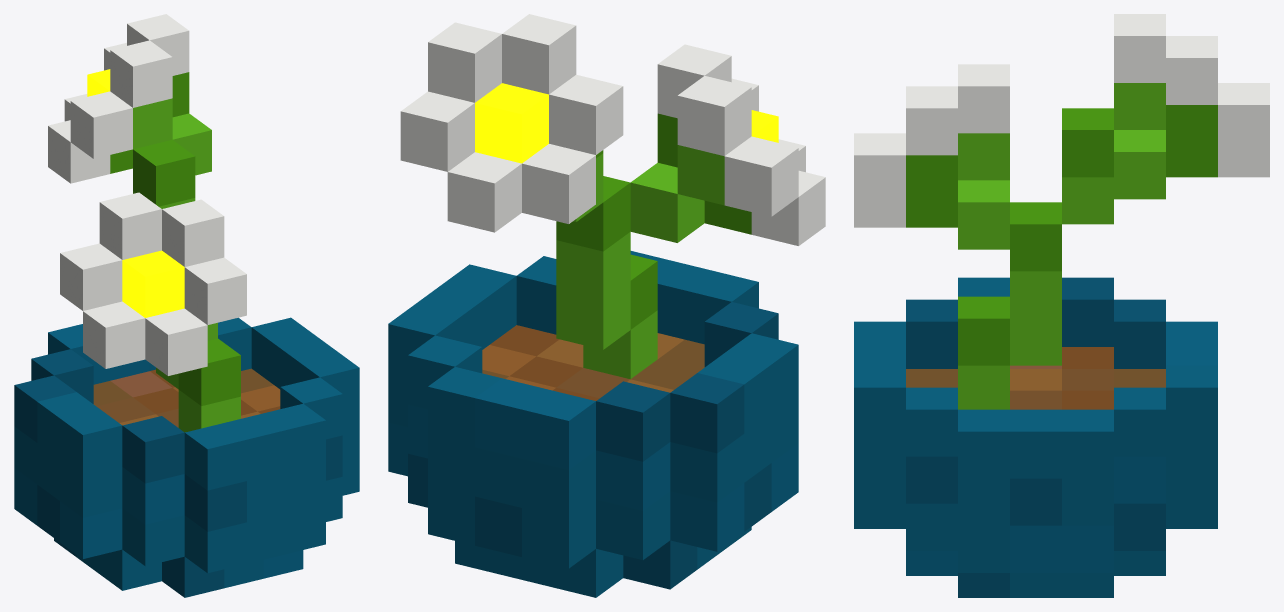
Rendered from flower.glb.
3 renders of one model, left to right at view 1: azimuth 30°, elevation 25°; view 2: azimuth 150°, elevation 25°; view 3: azimuth 270°, elevation 25°, orthographic. The views are drawn at different scales.
Parts seen in each view (by area): view 1: FLower; view 2: FLower; view 3: FLower.
Boxes of the visible parts, bbox=[...] form: FLower: bbox=[14, 14, 359, 597]; FLower: bbox=[388, 14, 825, 597]; FLower: bbox=[854, 14, 1269, 597].
Size of the model in its own units: 3.5 by 5.5 by 4.
